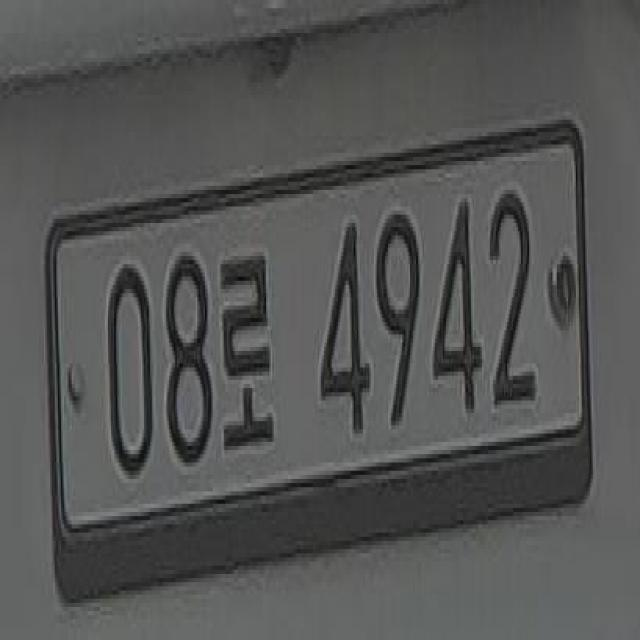illegal_plate: (42, 118, 600, 560)
